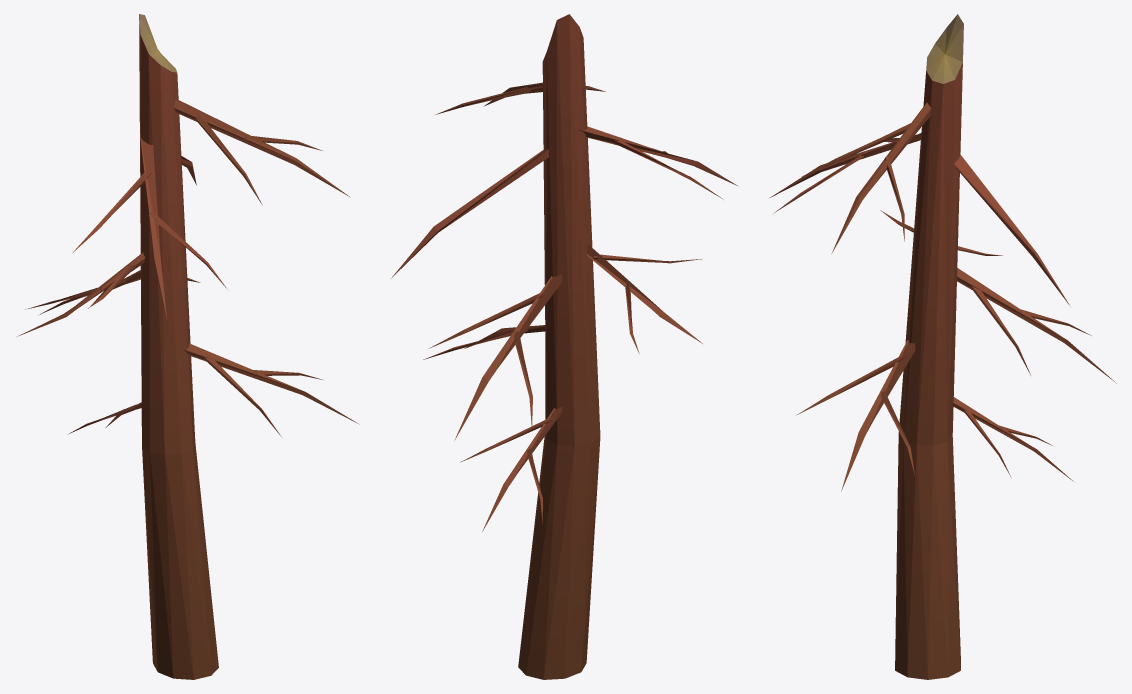
The model's file is treedamaged1.glb.
The picture shows the model from 3 angles, left to right: view 1: azimuth 30°, elevation 25°; view 2: azimuth 150°, elevation 25°; view 3: azimuth 270°, elevation 25°; orthographic projection. The views are drawn at different scales.
Parts seen in each view (by area): view 1: MAT_MAIN3; view 2: MAT_MAIN3; view 3: MAT_MAIN3.
Part boxes in pixels (bbox=[...]): MAT_MAIN3: bbox=[17, 14, 359, 679]; MAT_MAIN3: bbox=[391, 14, 738, 679]; MAT_MAIN3: bbox=[770, 14, 1116, 679].
Bounding box in the file's own units: 4.22 × 8.94 × 4.45.
Materials: 1 (1 with a texture image).
